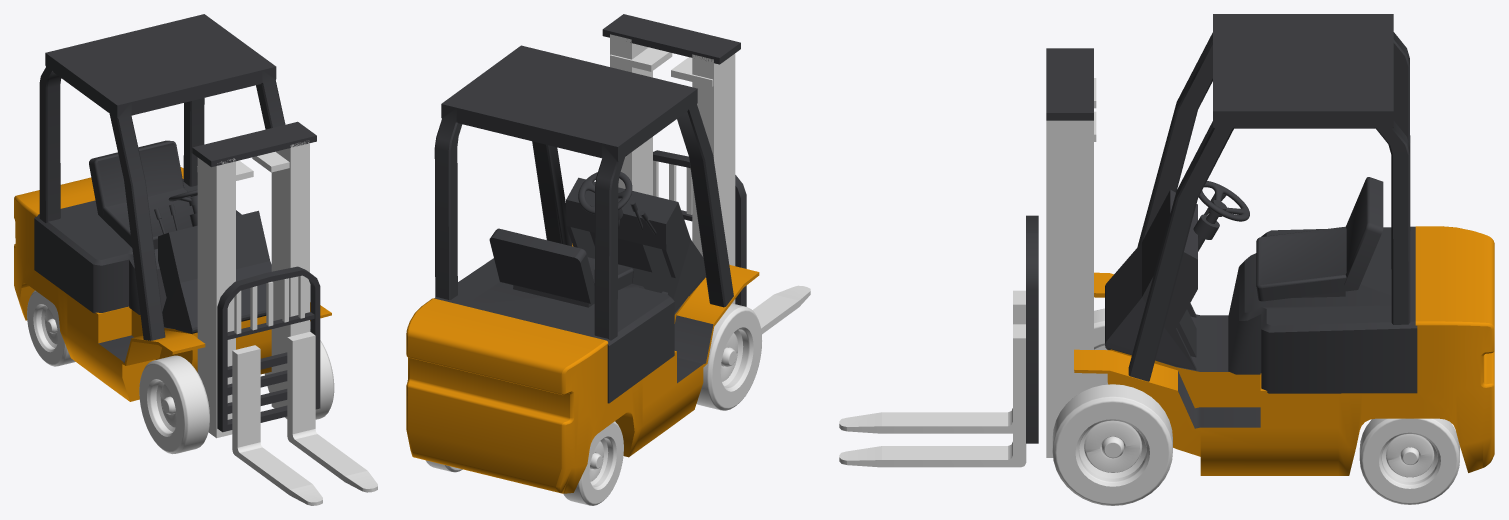
File: Forklift.fbx
3 views of the same model, side by side, from view 1: azimuth 30°, elevation 25°; view 2: azimuth 150°, elevation 25°; view 3: azimuth 270°, elevation 25° (orthographic). The views are drawn at different scales.
Parts seen in each view (by area): view 1: Cube_6, Cube_11_3_2, Cube, Cube_11, Cube_1, Cube_5, Tube_3, Cube_7_2, Cube_4, Cube_2, Cube_2_2, Tube_2 (+4 smaller); view 2: Cube, Cube_6, Cube_1, Cube_5, Cube_11_3_2, Cube_4, Tube_3, Cube_2, Tube_2, Cube_7_2, Cube_11_2_2, Cube_11 (+4 smaller); view 3: Cube, Cube_6, Cube_1, Cube_11_3_2, Cube_11, Tube_3, Cube_5, Cube_2_2, Tube_2, Cube_2, Cylinder_3_2, Cube_4 (+3 smaller).
Part boxes in pixels (bbox=[...]): Cube_6: bbox=[39, 14, 285, 340]; Cube_11_3_2: bbox=[197, 140, 309, 438]; Cube: bbox=[14, 167, 331, 401]; Cube_11: bbox=[232, 332, 377, 505]; Cube_1: bbox=[34, 179, 241, 314]; Cube_5: bbox=[158, 210, 271, 333]; Tube_3: bbox=[139, 329, 334, 454]; Cube_7_2: bbox=[217, 266, 320, 432]; Cube_4: bbox=[89, 140, 184, 215]; Cube_2: bbox=[192, 121, 316, 167]; Cube_2_2: bbox=[99, 187, 193, 249]; Tube_2: bbox=[27, 290, 75, 366]; Cube: bbox=[406, 243, 759, 493]; Cube_6: bbox=[434, 45, 733, 340]; Cube_1: bbox=[434, 258, 674, 403]; Cube_5: bbox=[566, 177, 705, 312]; Cube_11_3_2: bbox=[610, 34, 735, 303]; Cube_4: bbox=[489, 228, 594, 303]; Tube_3: bbox=[696, 303, 761, 410]; Cube_2: bbox=[602, 14, 740, 64]; Tube_2: bbox=[426, 421, 623, 505]; Cube_7_2: bbox=[653, 150, 746, 306]; Cube_11_2_2: bbox=[610, 47, 713, 86]; Cube_11: bbox=[752, 285, 810, 334]; Cube: bbox=[1074, 226, 1494, 475]; Cube_6: bbox=[1128, 14, 1410, 381]; Cube_1: bbox=[1228, 226, 1417, 393]; Cube_11_3_2: bbox=[1046, 120, 1093, 457]; Cube_11: bbox=[839, 290, 1026, 467]; Tube_3: bbox=[1052, 308, 1172, 505]; Cube_5: bbox=[1105, 190, 1197, 370]; Cube_2_2: bbox=[1256, 226, 1356, 301]; Tube_2: bbox=[1359, 418, 1459, 504]; Cube_2: bbox=[1046, 48, 1093, 120]; Cylinder_3_2: bbox=[1079, 345, 1146, 478]; Cube_4: bbox=[1344, 177, 1383, 289].
Size of the model in its own units: 274 by 514 by 765.
